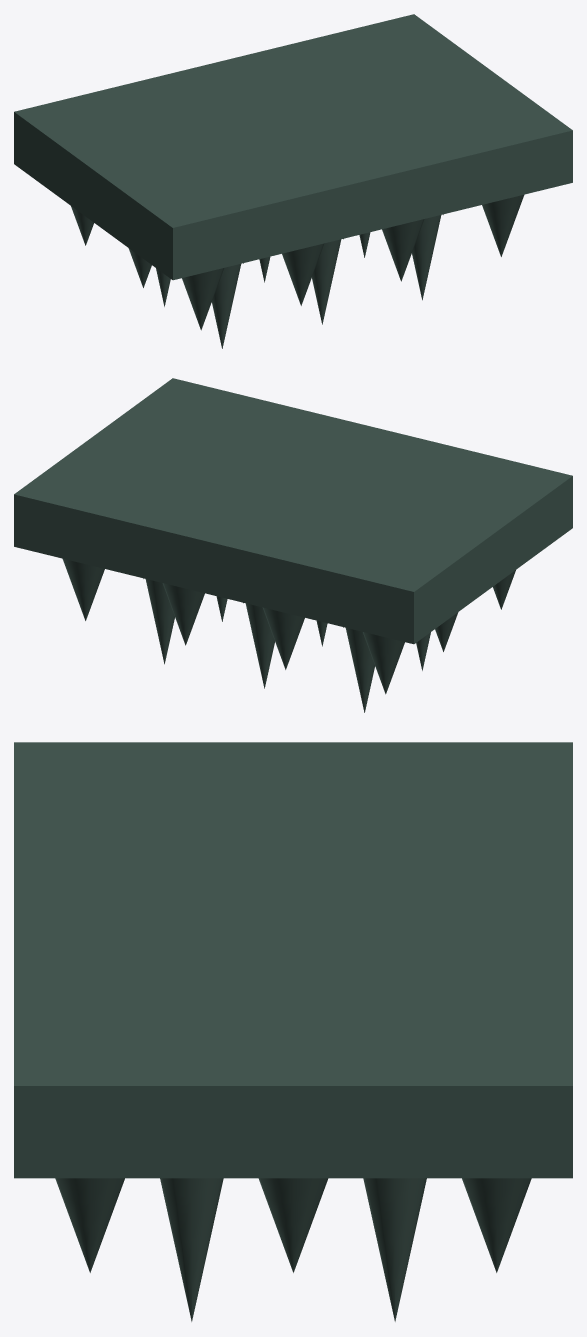
Rendered from Pinchos.FBX.
The picture shows the model from 3 angles, top to bottom: view 1: azimuth 30°, elevation 25°; view 2: azimuth 150°, elevation 25°; view 3: azimuth 270°, elevation 25°; orthographic projection. The views are drawn at different scales.
Parts seen in each view (by area): view 1: Box003, Cone005, Cone006, Cone007, Cone008, Cone018, Cone017, Cone020; view 2: Box003, Cone003, Cone001, Cone002, Cone004, Cone014, Cone013, Cone016; view 3: Box003, Cone014, Cone018, Cone012, Cone008, Cone004.
Part boxes in pixels (bbox=[...]): Box003: bbox=[14, 14, 572, 280]; Cone005: bbox=[382, 219, 424, 281]; Cone006: bbox=[182, 268, 223, 330]; Cone007: bbox=[282, 243, 324, 305]; Cone008: bbox=[482, 195, 524, 256]; Cone018: bbox=[412, 215, 441, 300]; Cone017: bbox=[212, 264, 241, 348]; Cone020: bbox=[312, 239, 341, 324]; Box003: bbox=[14, 378, 572, 644]; Cone003: bbox=[162, 583, 204, 645]; Cone001: bbox=[363, 632, 404, 694]; Cone002: bbox=[262, 607, 304, 669]; Cone004: bbox=[62, 559, 104, 620]; Cone014: bbox=[145, 579, 174, 664]; Cone013: bbox=[345, 628, 374, 712]; Cone016: bbox=[245, 603, 274, 688]; Box003: bbox=[14, 742, 572, 1178]; Cone014: bbox=[363, 1178, 426, 1321]; Cone018: bbox=[160, 1178, 223, 1321]; Cone012: bbox=[258, 1178, 328, 1272]; Cone008: bbox=[55, 1178, 124, 1272]; Cone004: bbox=[462, 1178, 531, 1272].
Bounding box in the file's own units: 160 × 70 × 110.
